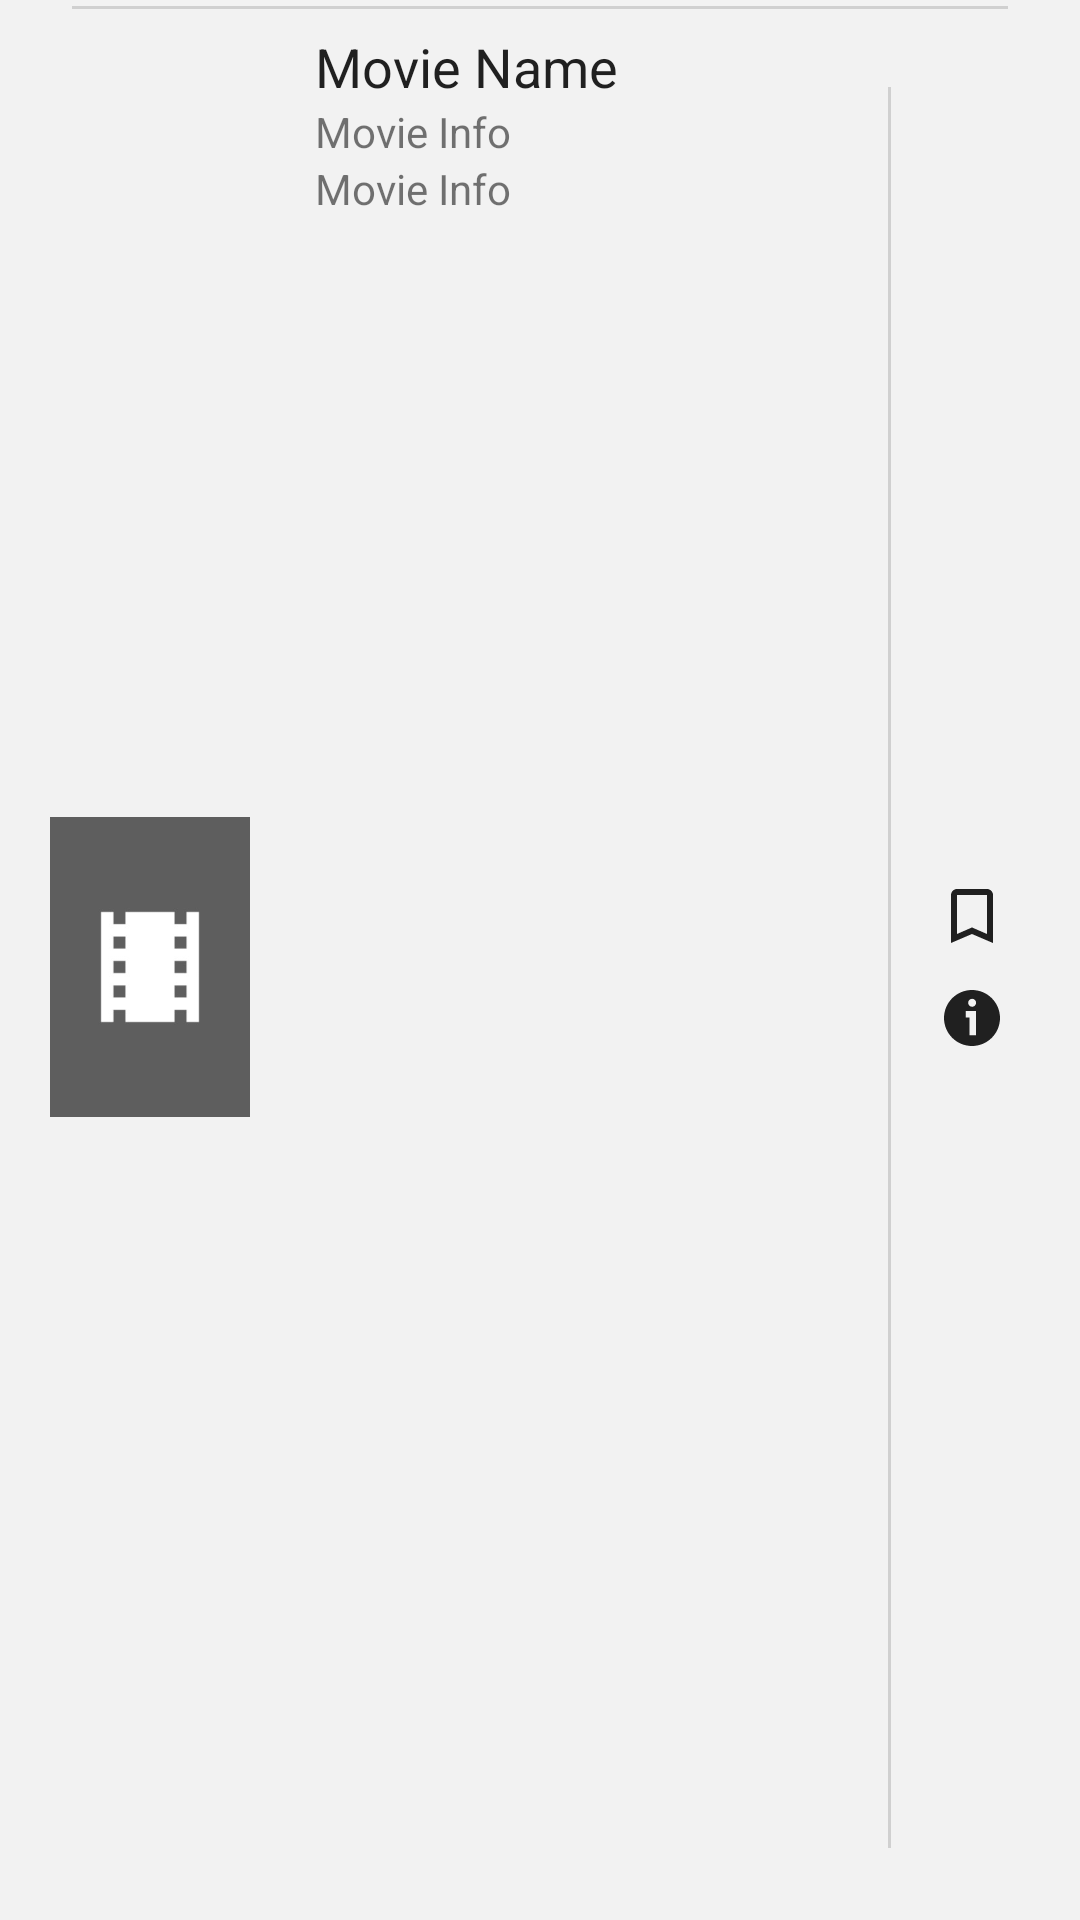

Icon click points for this 1080*1920 phone screenshot, format point (x, y):
bookmark: point (972, 916)
info: point (972, 1018)
